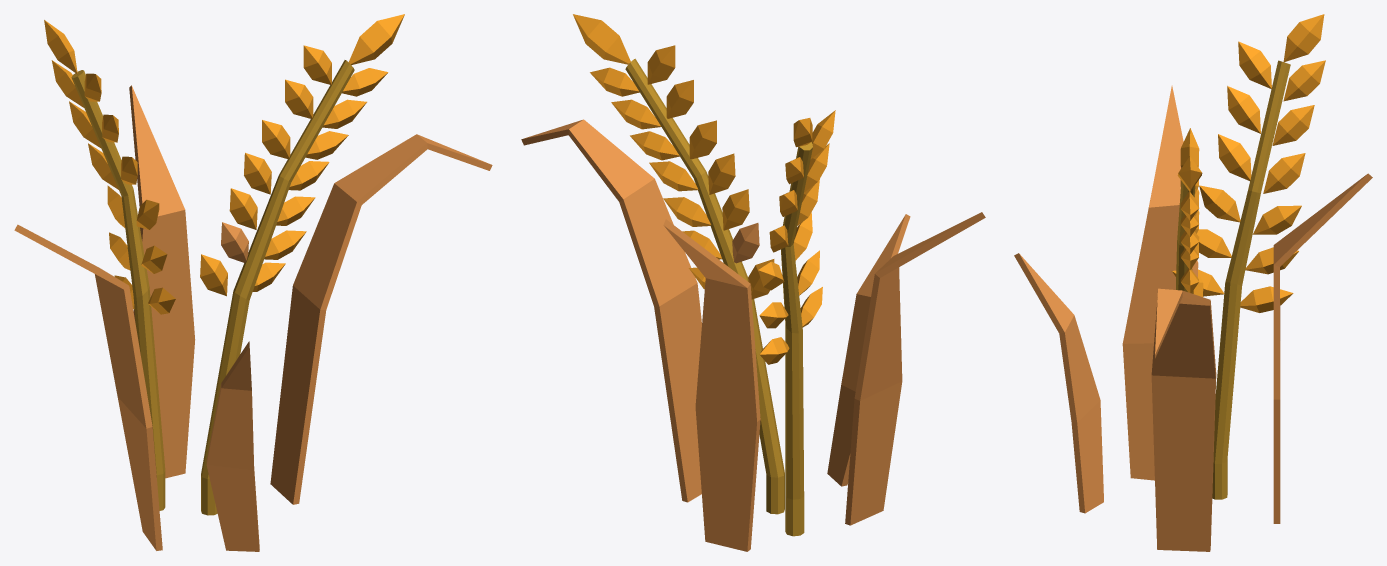
Rendered from Wheat_1.fbx.
3 views of the same model, side by side, from view 1: azimuth 30°, elevation 25°; view 2: azimuth 150°, elevation 25°; view 3: azimuth 270°, elevation 25° (orthographic). The views are drawn at different scales.
Visible parts, largest first — view 1: Wheat_1; view 2: Wheat_1; view 3: Wheat_1.
Part boxes in pixels (bbox=[...]): Wheat_1: bbox=[14, 14, 492, 551]; Wheat_1: bbox=[521, 14, 985, 551]; Wheat_1: bbox=[1014, 14, 1372, 551].
Size of the model in its own units: 144 by 135 by 96.93.
